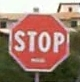stop: (7, 11, 70, 72)
